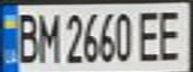0: (115, 8, 136, 63)
2: (60, 9, 84, 64)
6: (81, 9, 100, 64), (100, 8, 118, 63)
B: (9, 9, 42, 64)
E: (154, 6, 190, 62), (136, 7, 163, 63)
M: (33, 9, 60, 64)
